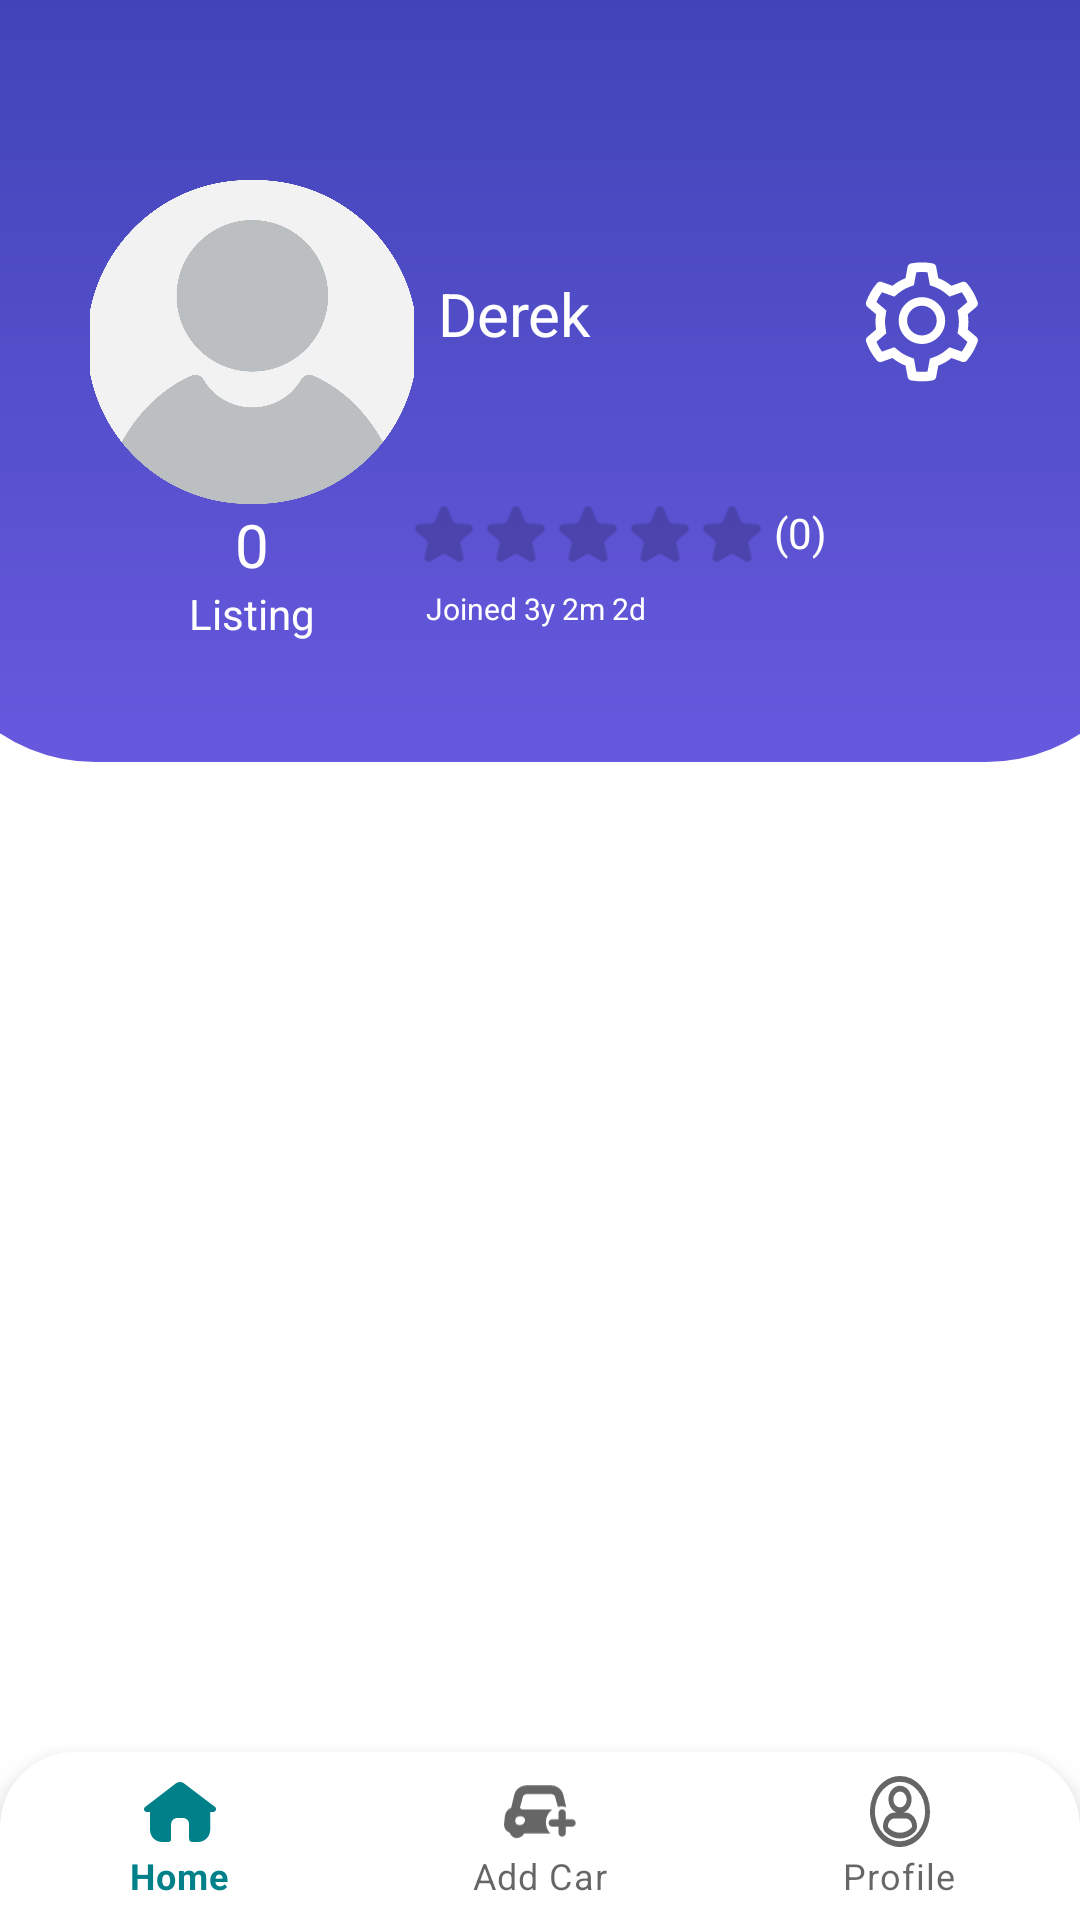

Named icons in this screenshot (1080×1920) and their bounding boxes, (x1, y1, x2, y2):
profile setting: (866, 262, 978, 382)
profile star empty: (415, 507, 473, 561), (487, 507, 545, 561), (559, 507, 617, 561), (631, 507, 689, 561), (703, 507, 761, 561)
unknown person: (90, 180, 414, 504)
